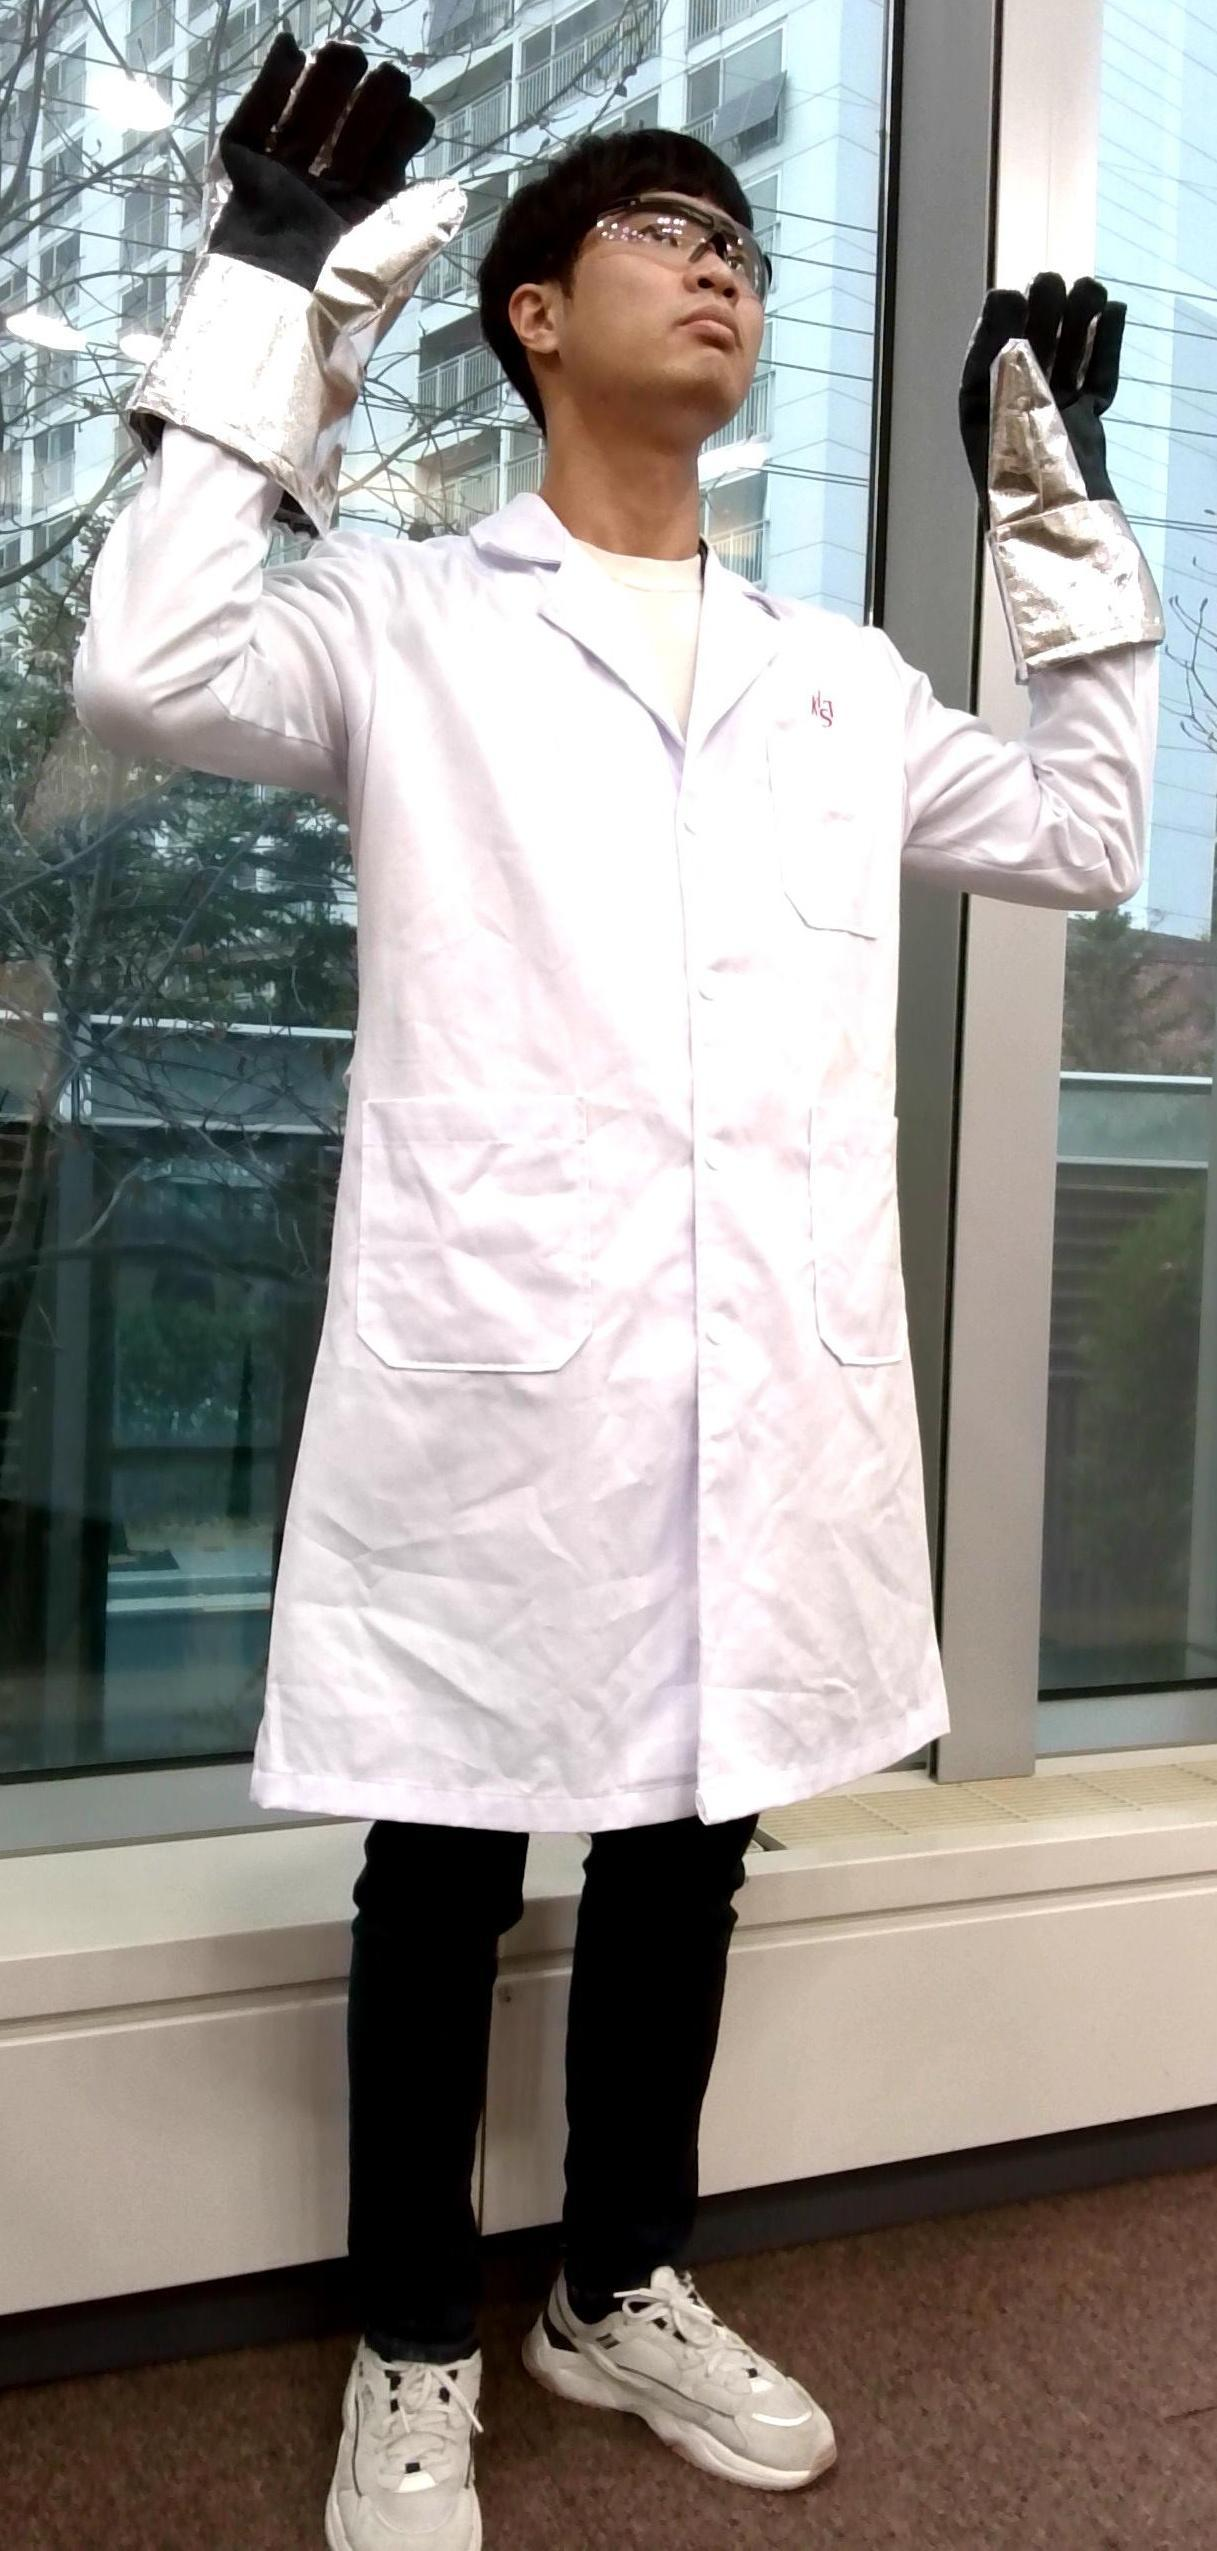lab_coat: (306, 511, 927, 1835)
